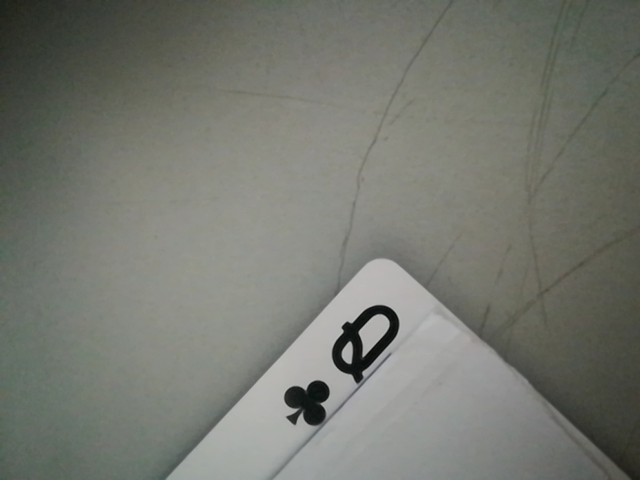mh q: (269, 293, 414, 440)
